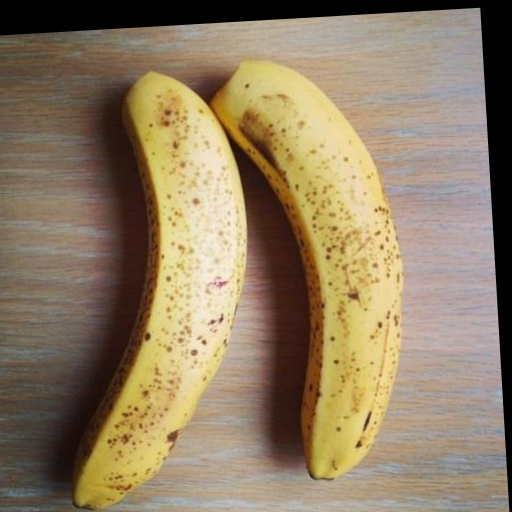fruit: (211, 61, 402, 478), (73, 73, 246, 507)
